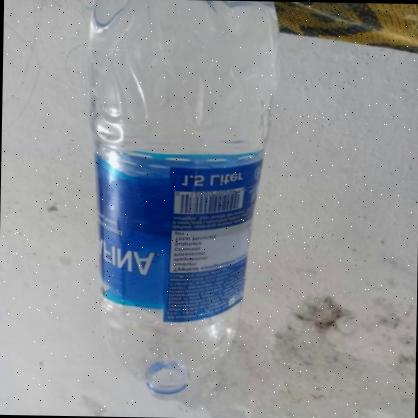bottle: (69, 0, 290, 405)
label: (80, 133, 287, 332)
